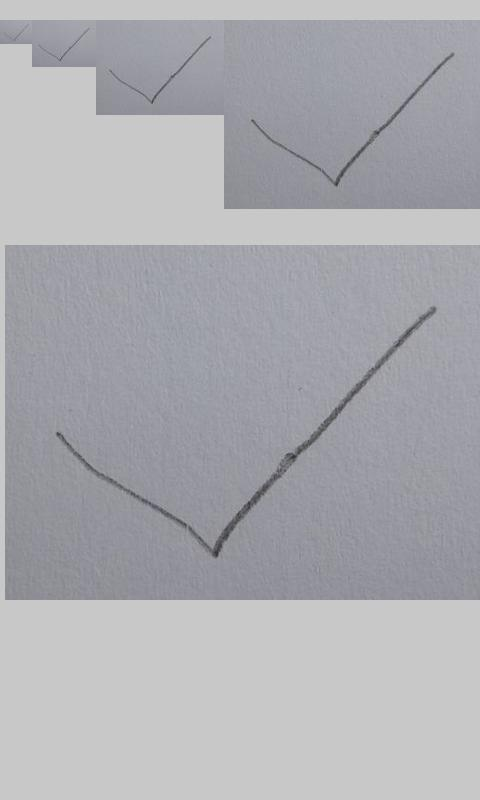check_box: (54, 307, 437, 557), (251, 52, 454, 188), (108, 36, 213, 104), (38, 28, 90, 62), (6, 24, 29, 42)
